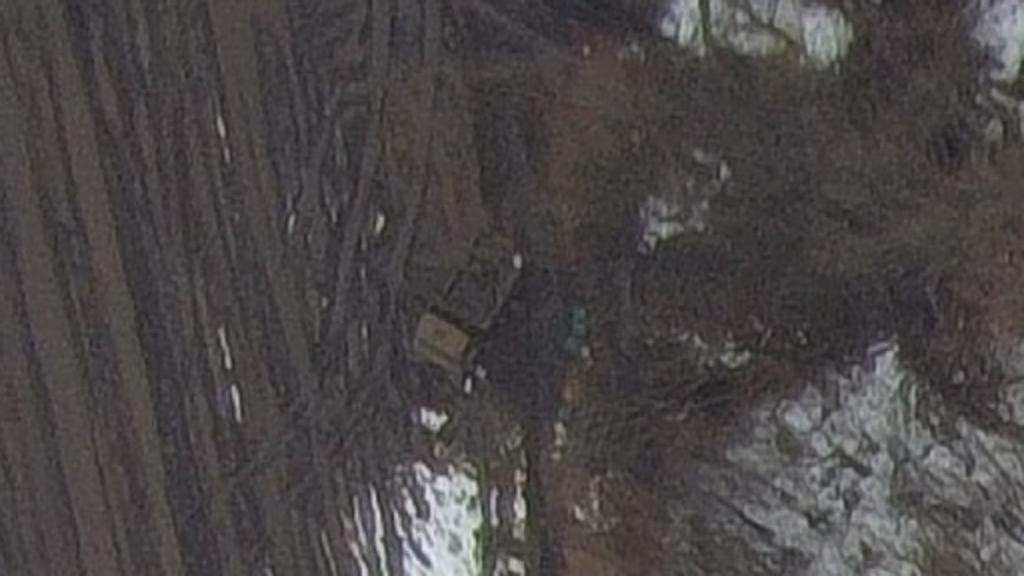TRUCK: (410, 220, 532, 374)
